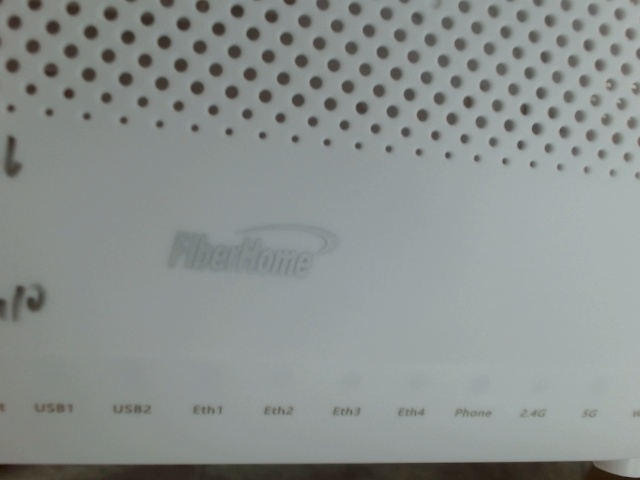AI_FiberHome: (163, 206, 343, 285)
